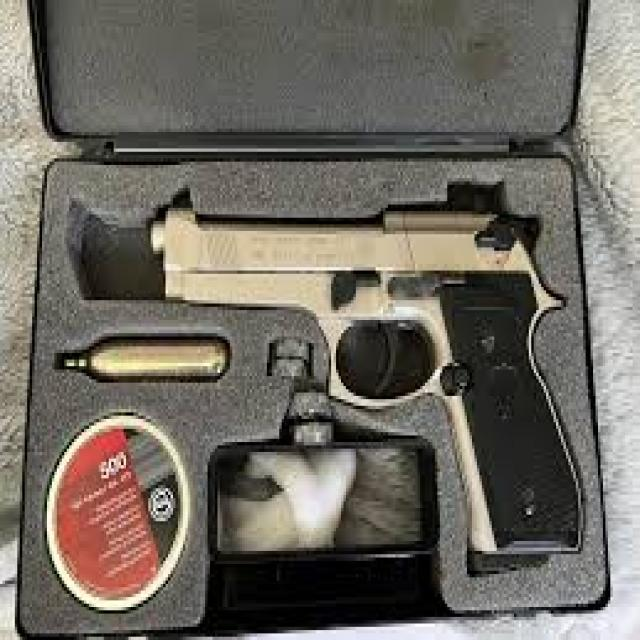Gun: (57, 177, 612, 571)
